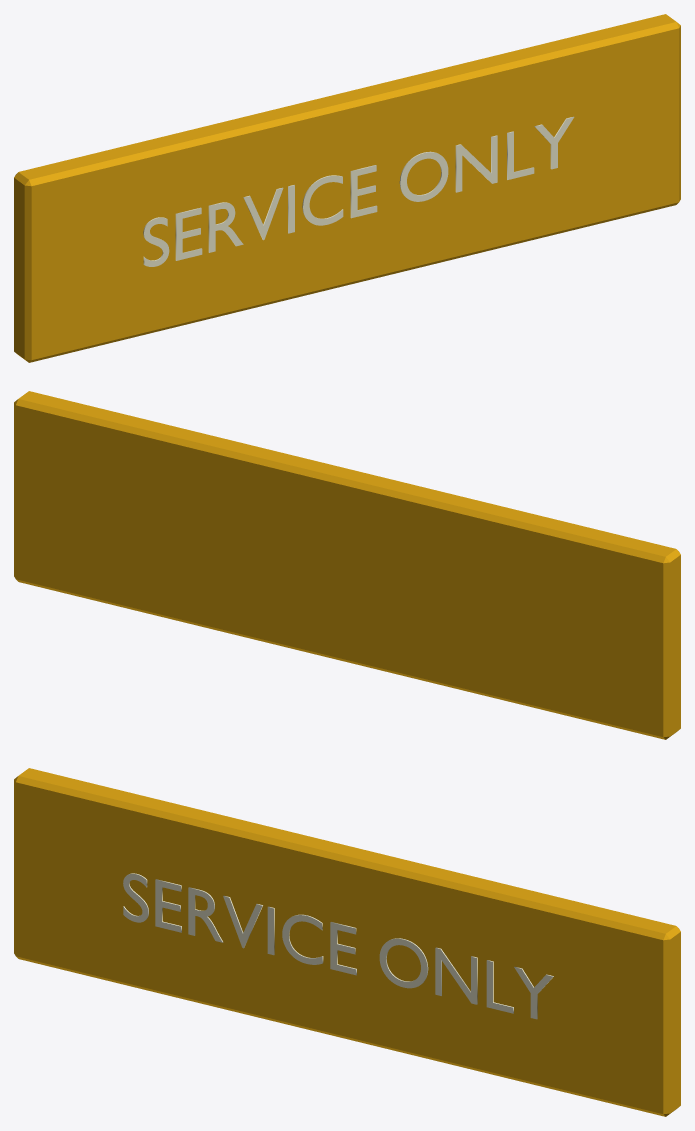
File: ServiceAreaSign.fbx
3 views of the same model, one above another, from view 1: azimuth 30°, elevation 25°; view 2: azimuth 150°, elevation 25°; view 3: azimuth 330°, elevation 25° (orthographic).
Visible parts, largest first — view 1: ServiceAreaSign; view 2: ServiceAreaSign; view 3: ServiceAreaSign.
Boxes of the visible parts, box(x1,y1,x2,y2) form: ServiceAreaSign: box(14, 14, 680, 362); ServiceAreaSign: box(14, 391, 680, 739); ServiceAreaSign: box(14, 768, 680, 1116).
Bounding box in the file's own units: 120 × 32 × 5.8.
1 material, 1 textured.
